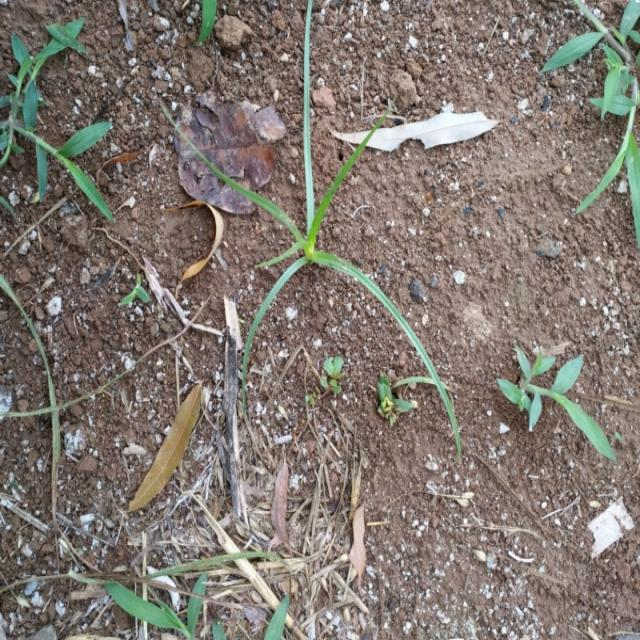sedge: (180, 74, 438, 404)
